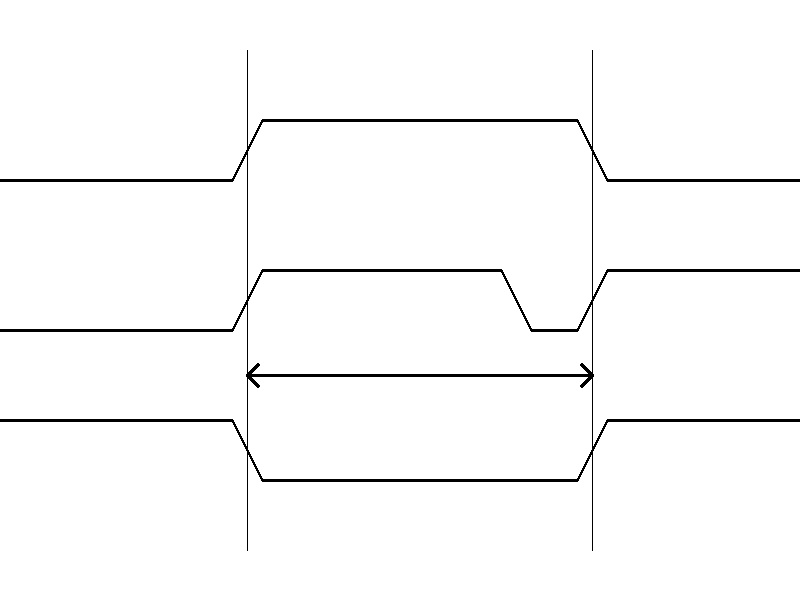double_arrow: (247, 360, 592, 390)
